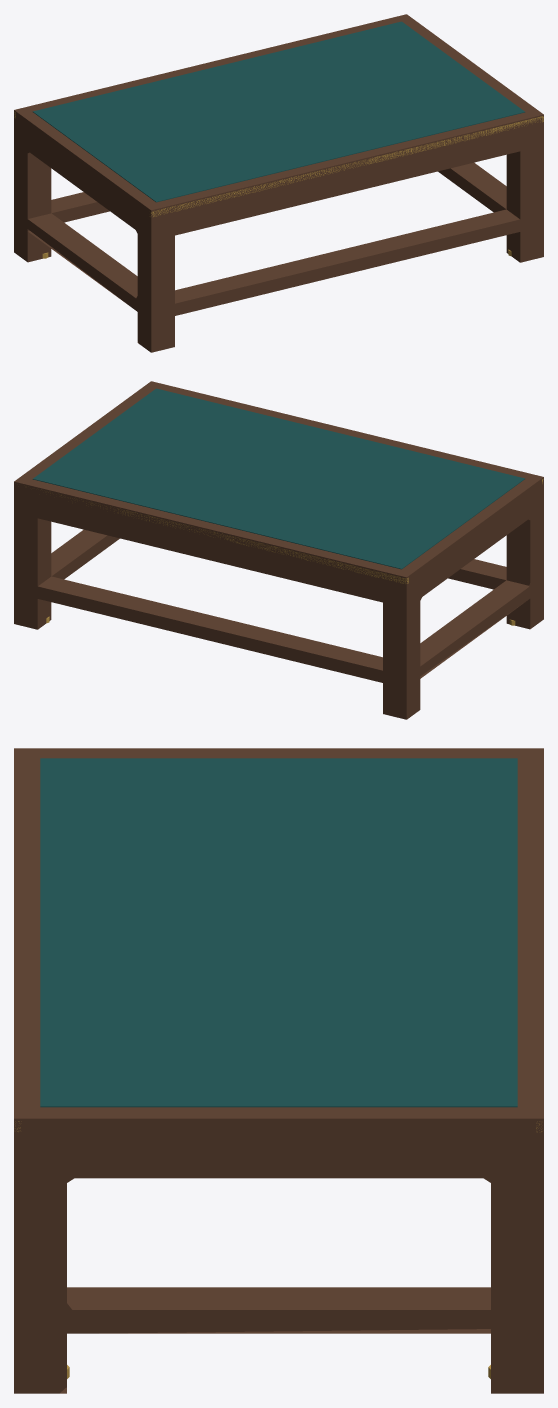
The model's file is tableCoffee.glb.
3 renders of one model, top to bottom at view 1: azimuth 30°, elevation 25°; view 2: azimuth 150°, elevation 25°; view 3: azimuth 270°, elevation 25°, orthographic. The views are drawn at different scales.
Visible parts, largest first — view 1: tableCoffee(Clone); view 2: tableCoffee(Clone); view 3: tableCoffee(Clone).
Boxes of the visible parts, x1=… form: tableCoffee(Clone): x1=14, y1=14, x2=543, y2=352; tableCoffee(Clone): x1=14, y1=381, x2=543, y2=719; tableCoffee(Clone): x1=14, y1=748, x2=543, y2=1393.
Size of the model in its own units: 0.661 by 0.23 by 0.4.
